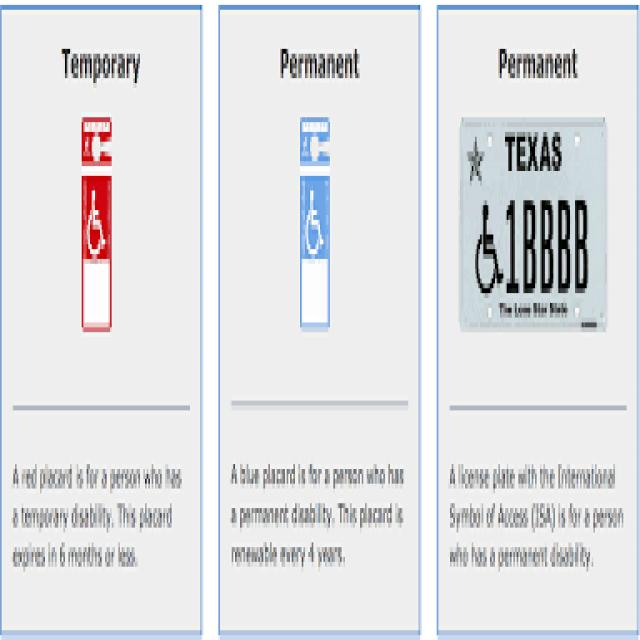car-handicap-placard: (476, 194, 504, 297), (83, 186, 108, 267), (304, 186, 324, 260)
